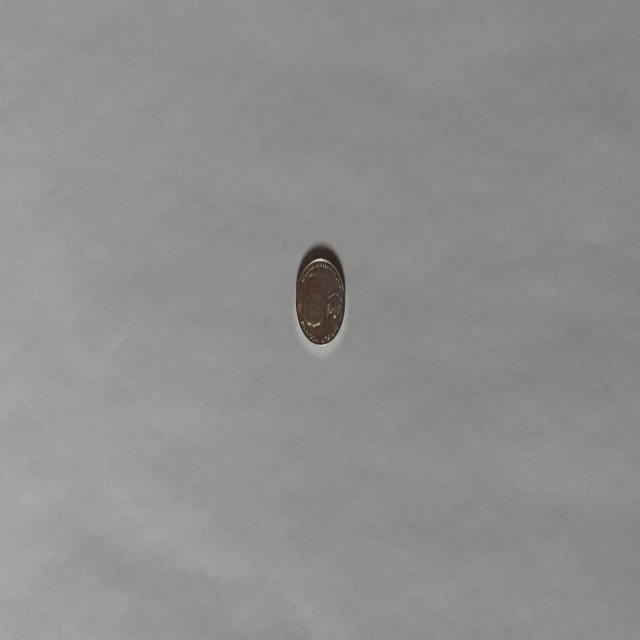seratus rupiah: (294, 254, 346, 346)
